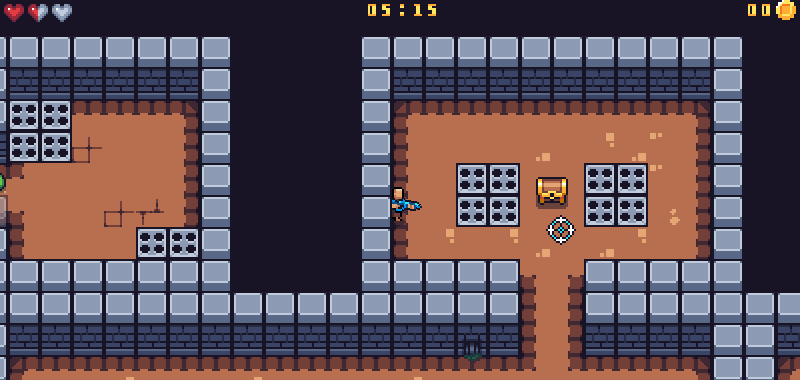trap_off: (456, 164, 518, 226), (584, 164, 647, 224), (10, 100, 70, 162), (137, 227, 199, 259)
treasury_close: (534, 176, 569, 206)
